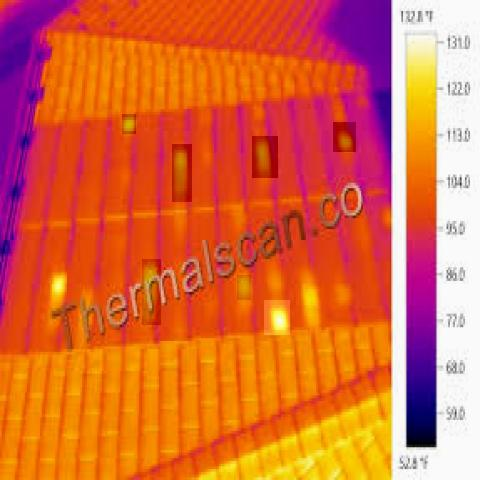fault: (142, 259, 161, 325), (172, 144, 192, 202), (252, 136, 278, 178), (301, 278, 319, 333), (264, 300, 290, 335), (333, 122, 356, 152), (52, 272, 67, 302), (237, 275, 251, 300), (122, 114, 136, 134)
